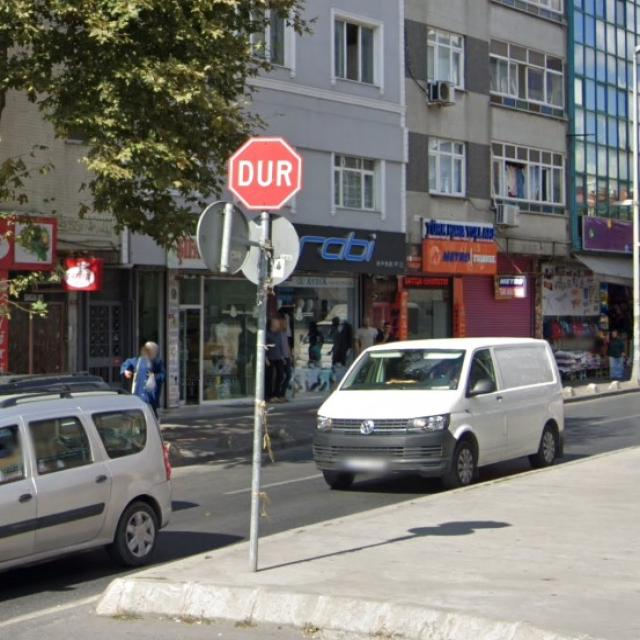dur: (227, 137, 301, 211)
